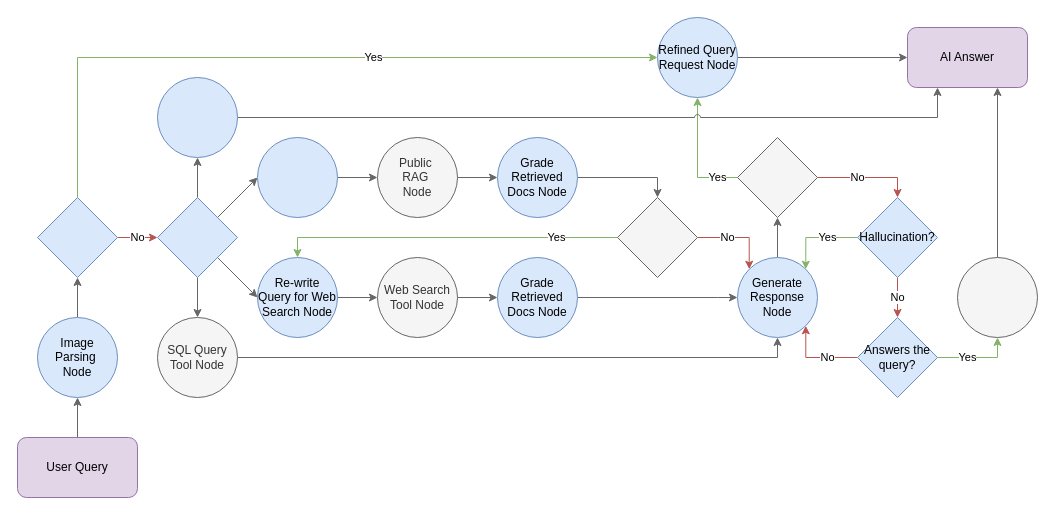
This 1055x515 diagram has some shape labels left out. Each missing label, with the centre of its shape:
"Add Web Search?" goes at (657,237).
"Final Answer" goes at (997,297).
"Generate Simple Response Node" goes at (197,117).
"Moderation needed?" goes at (77,237).
"Query Router" goes at (197,237).
"Re-write Query for RAG Node" goes at (297,177).
"Too many tries?" goes at (777,177).
